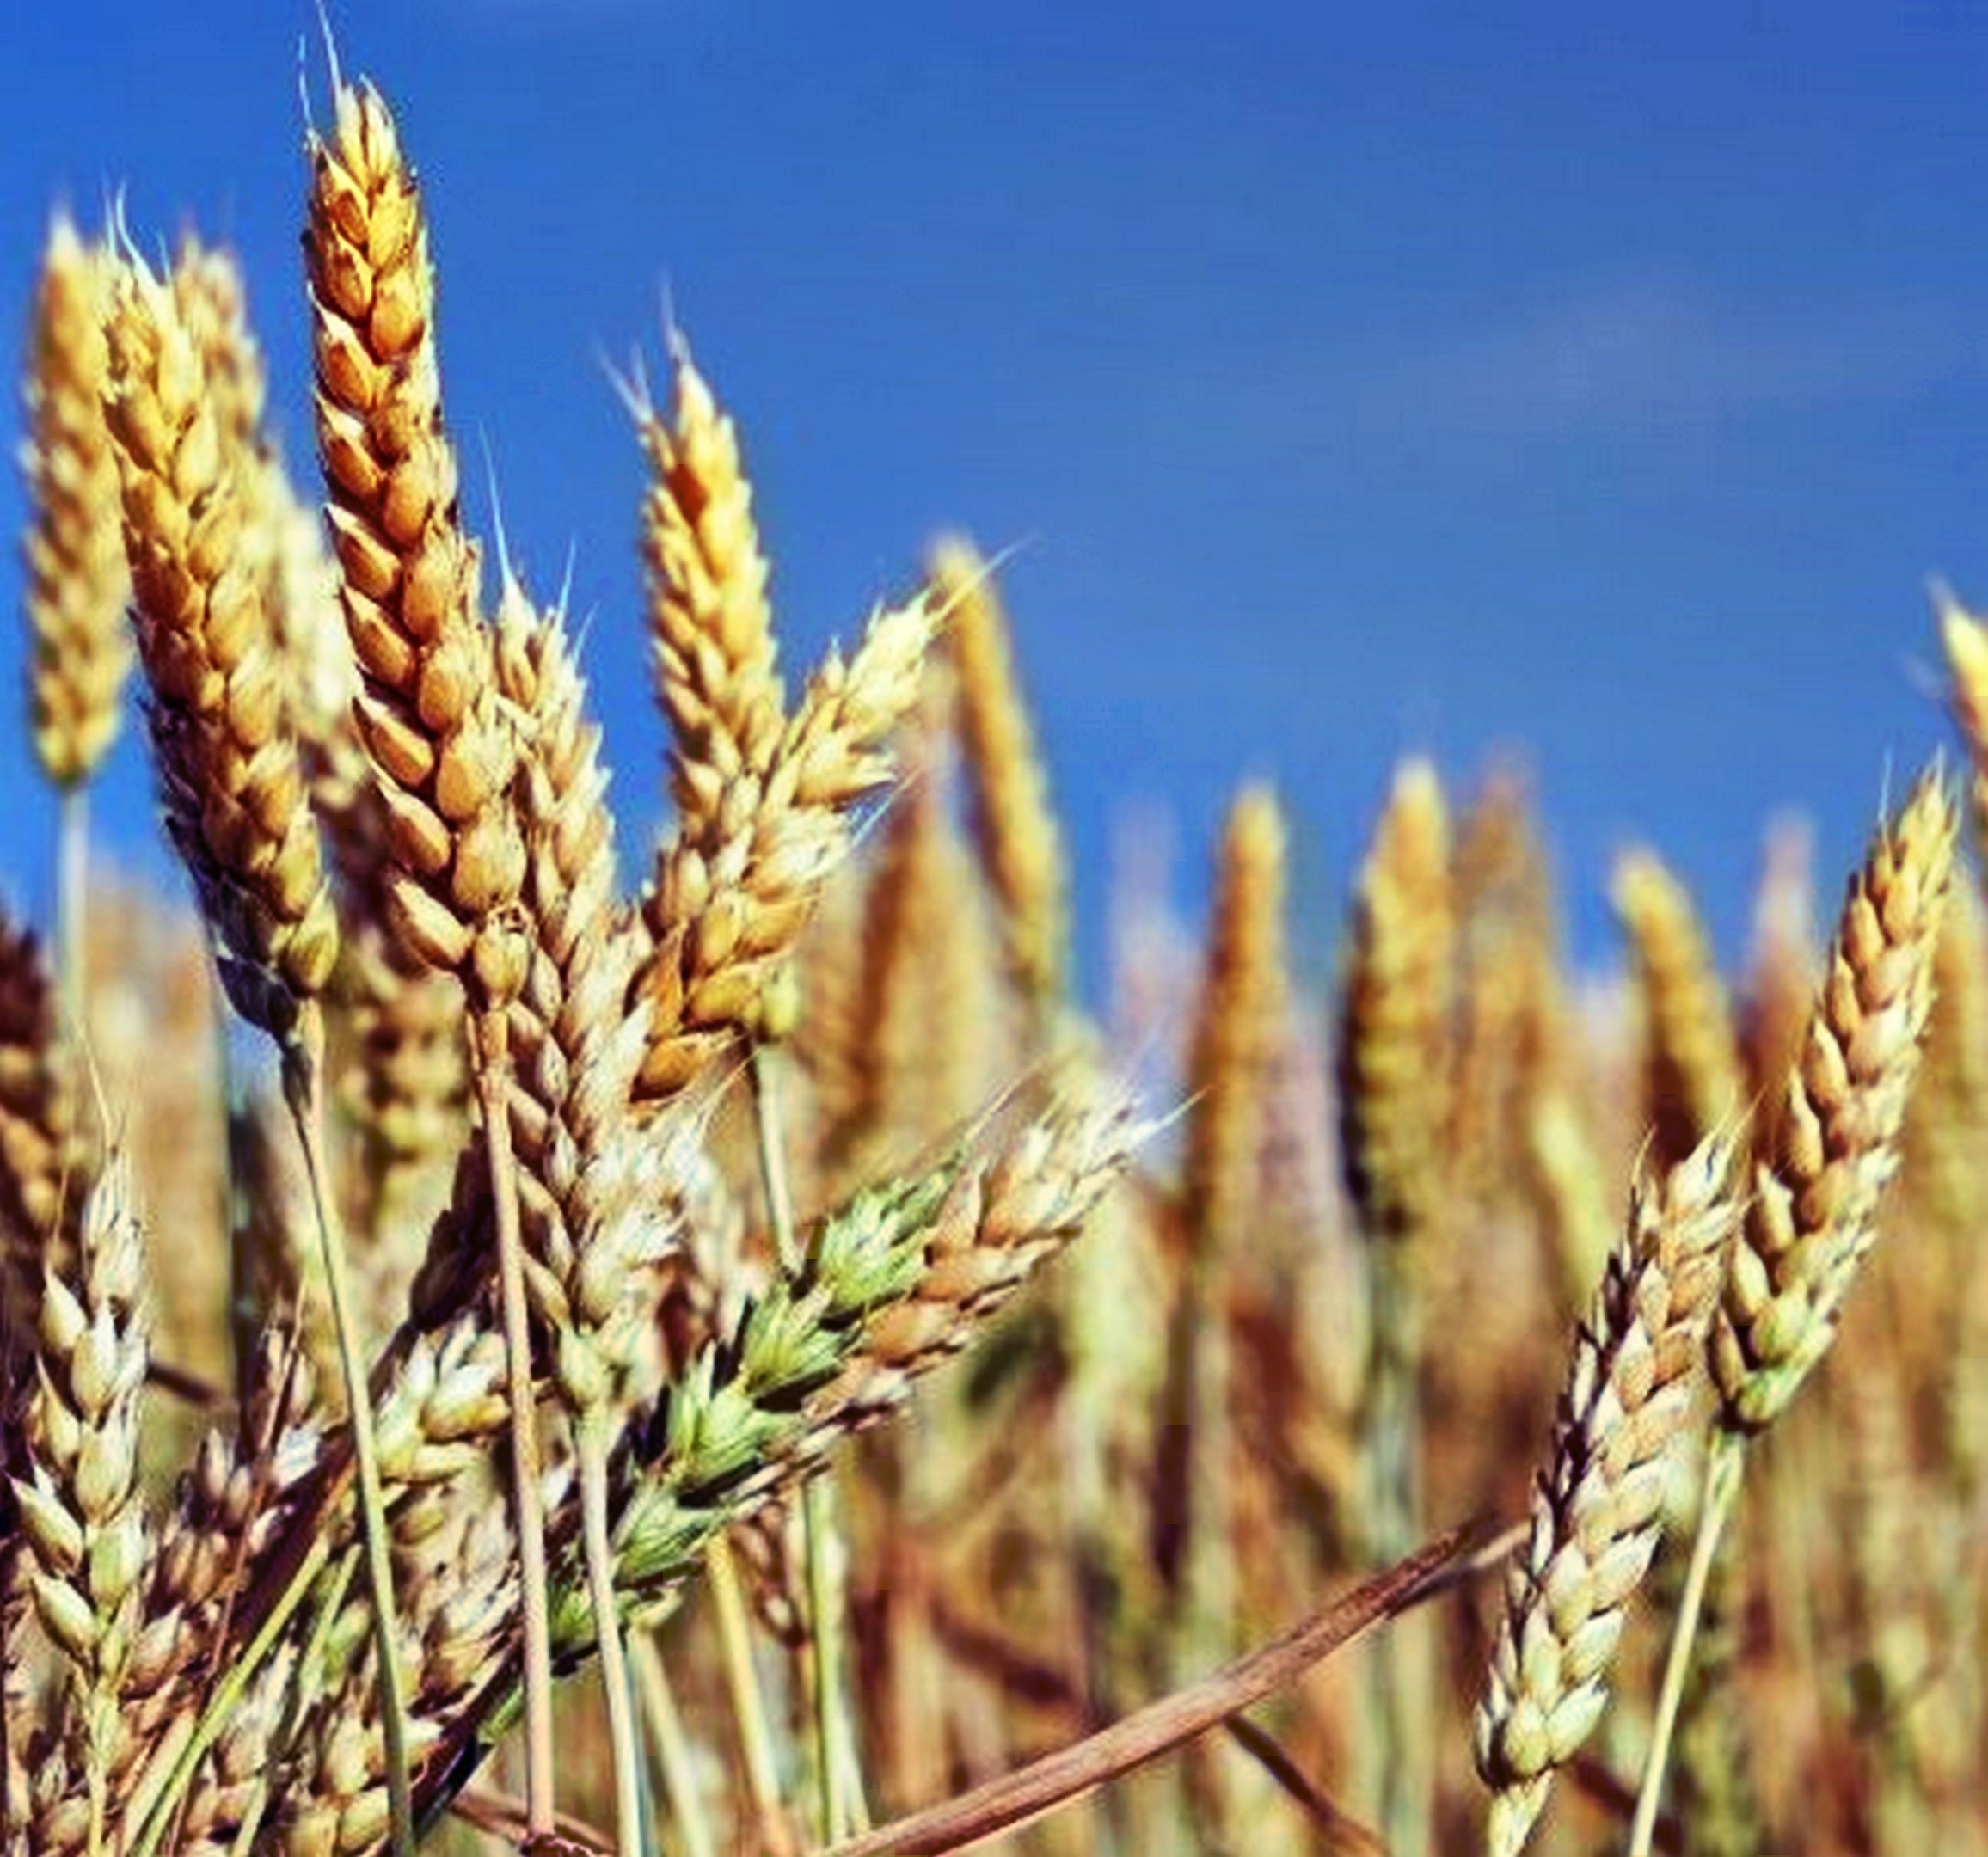Healthy Wheat: (1442, 771, 1988, 1806), (251, 82, 553, 983)
